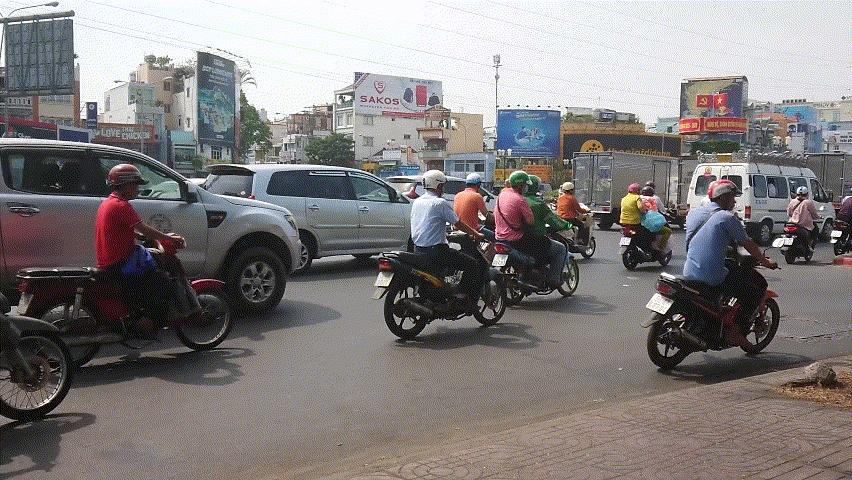driver: (17, 161, 234, 368), (639, 176, 787, 372), (370, 169, 509, 340), (494, 167, 581, 305), (619, 181, 675, 269), (780, 185, 826, 265)
helmet: (107, 162, 150, 202), (708, 179, 745, 211), (422, 170, 450, 198), (509, 170, 532, 196), (466, 172, 483, 193), (797, 186, 808, 198)
